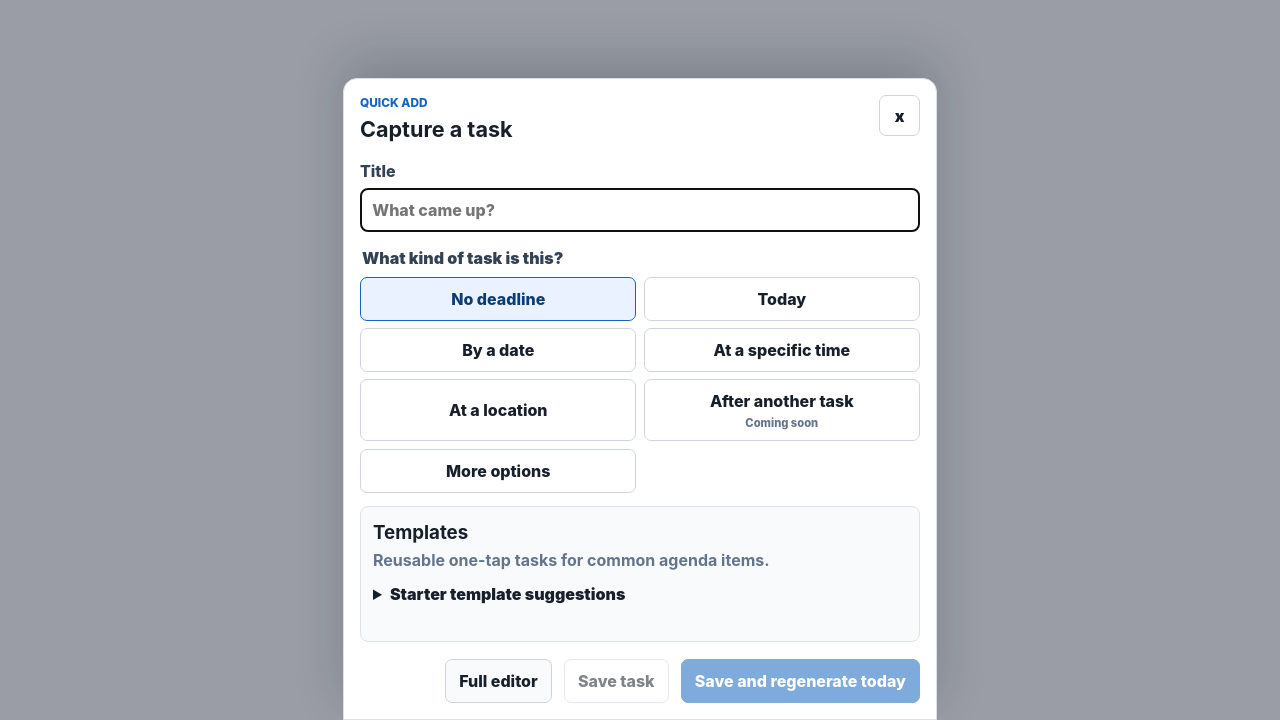
Scenario: QuickAddTaskSheet › After another task is clearly unavailable and cannot save
Type "Follow-up task" into the field labelled "Title" at [640, 210], box left=360, top=188, right=920, bottom=232
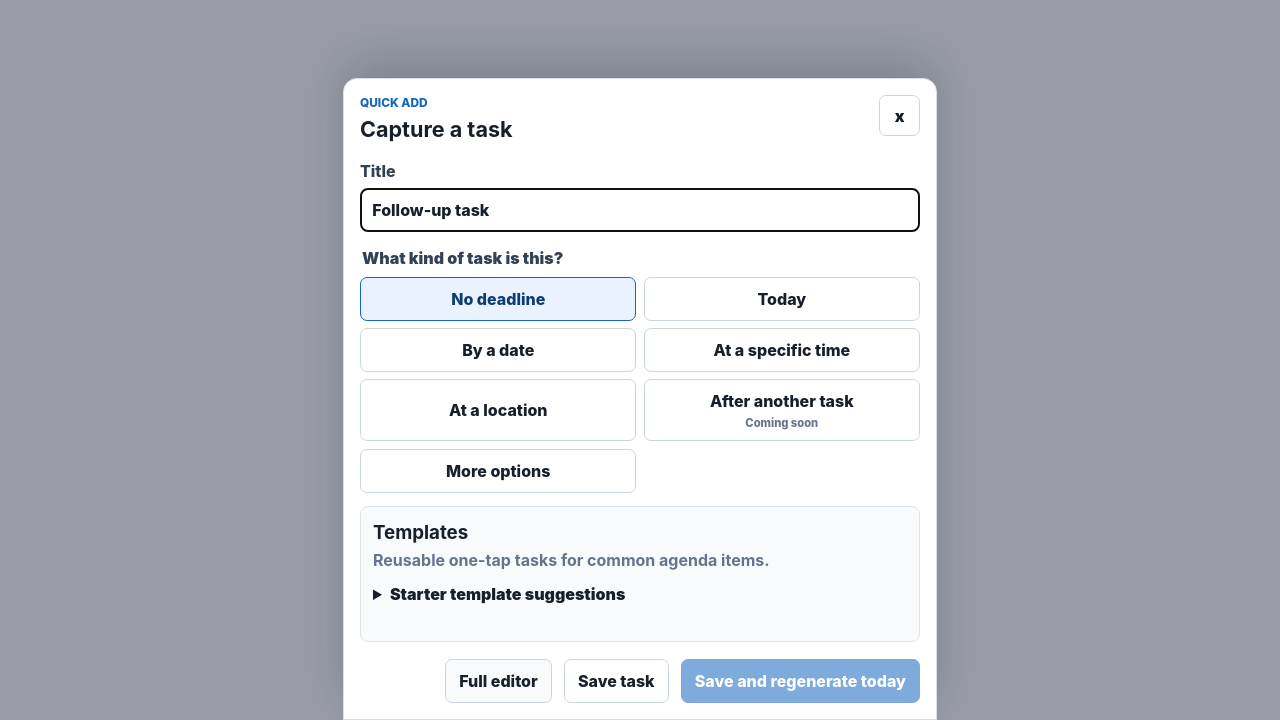
Click the button "After another task Coming soon" at [782, 410], box left=644, top=379, right=920, bottom=441
(page scrolled)
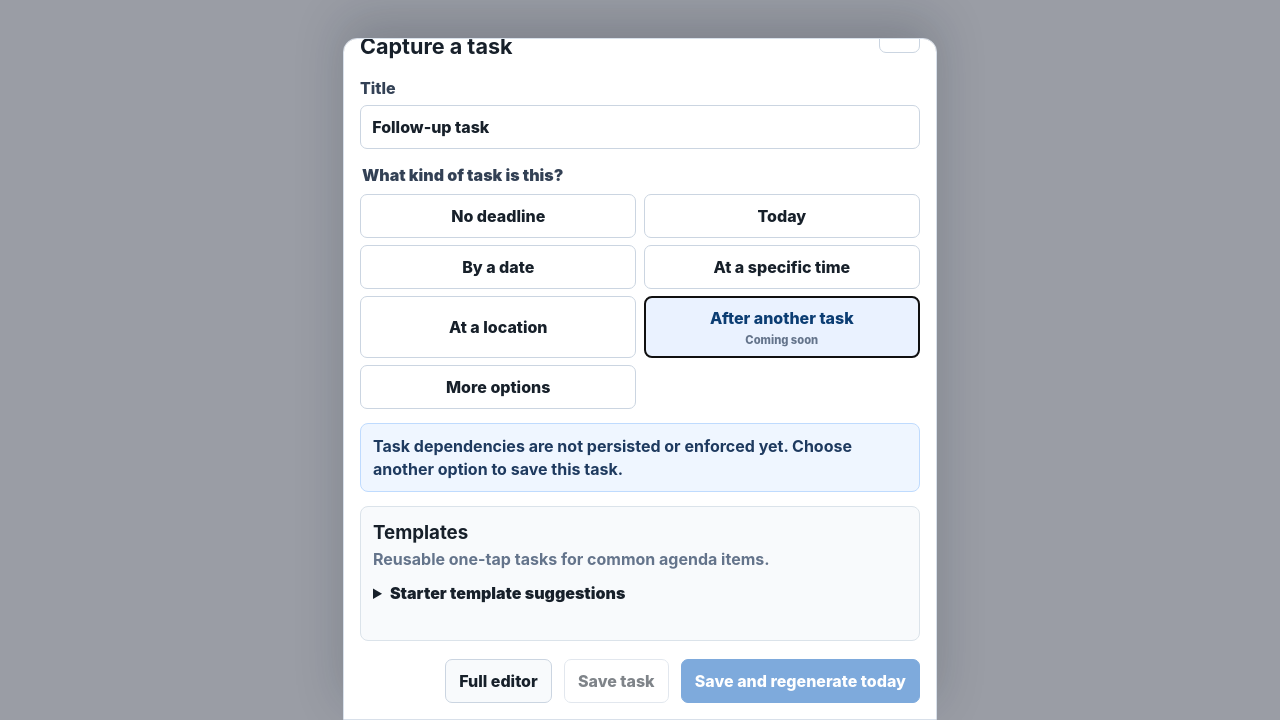
Expected: the text "not persisted or enforced yet" is shown, left=373, top=436, right=852, bottom=479
Expected: the button "Save task" is disabled, left=564, top=659, right=669, bottom=703
